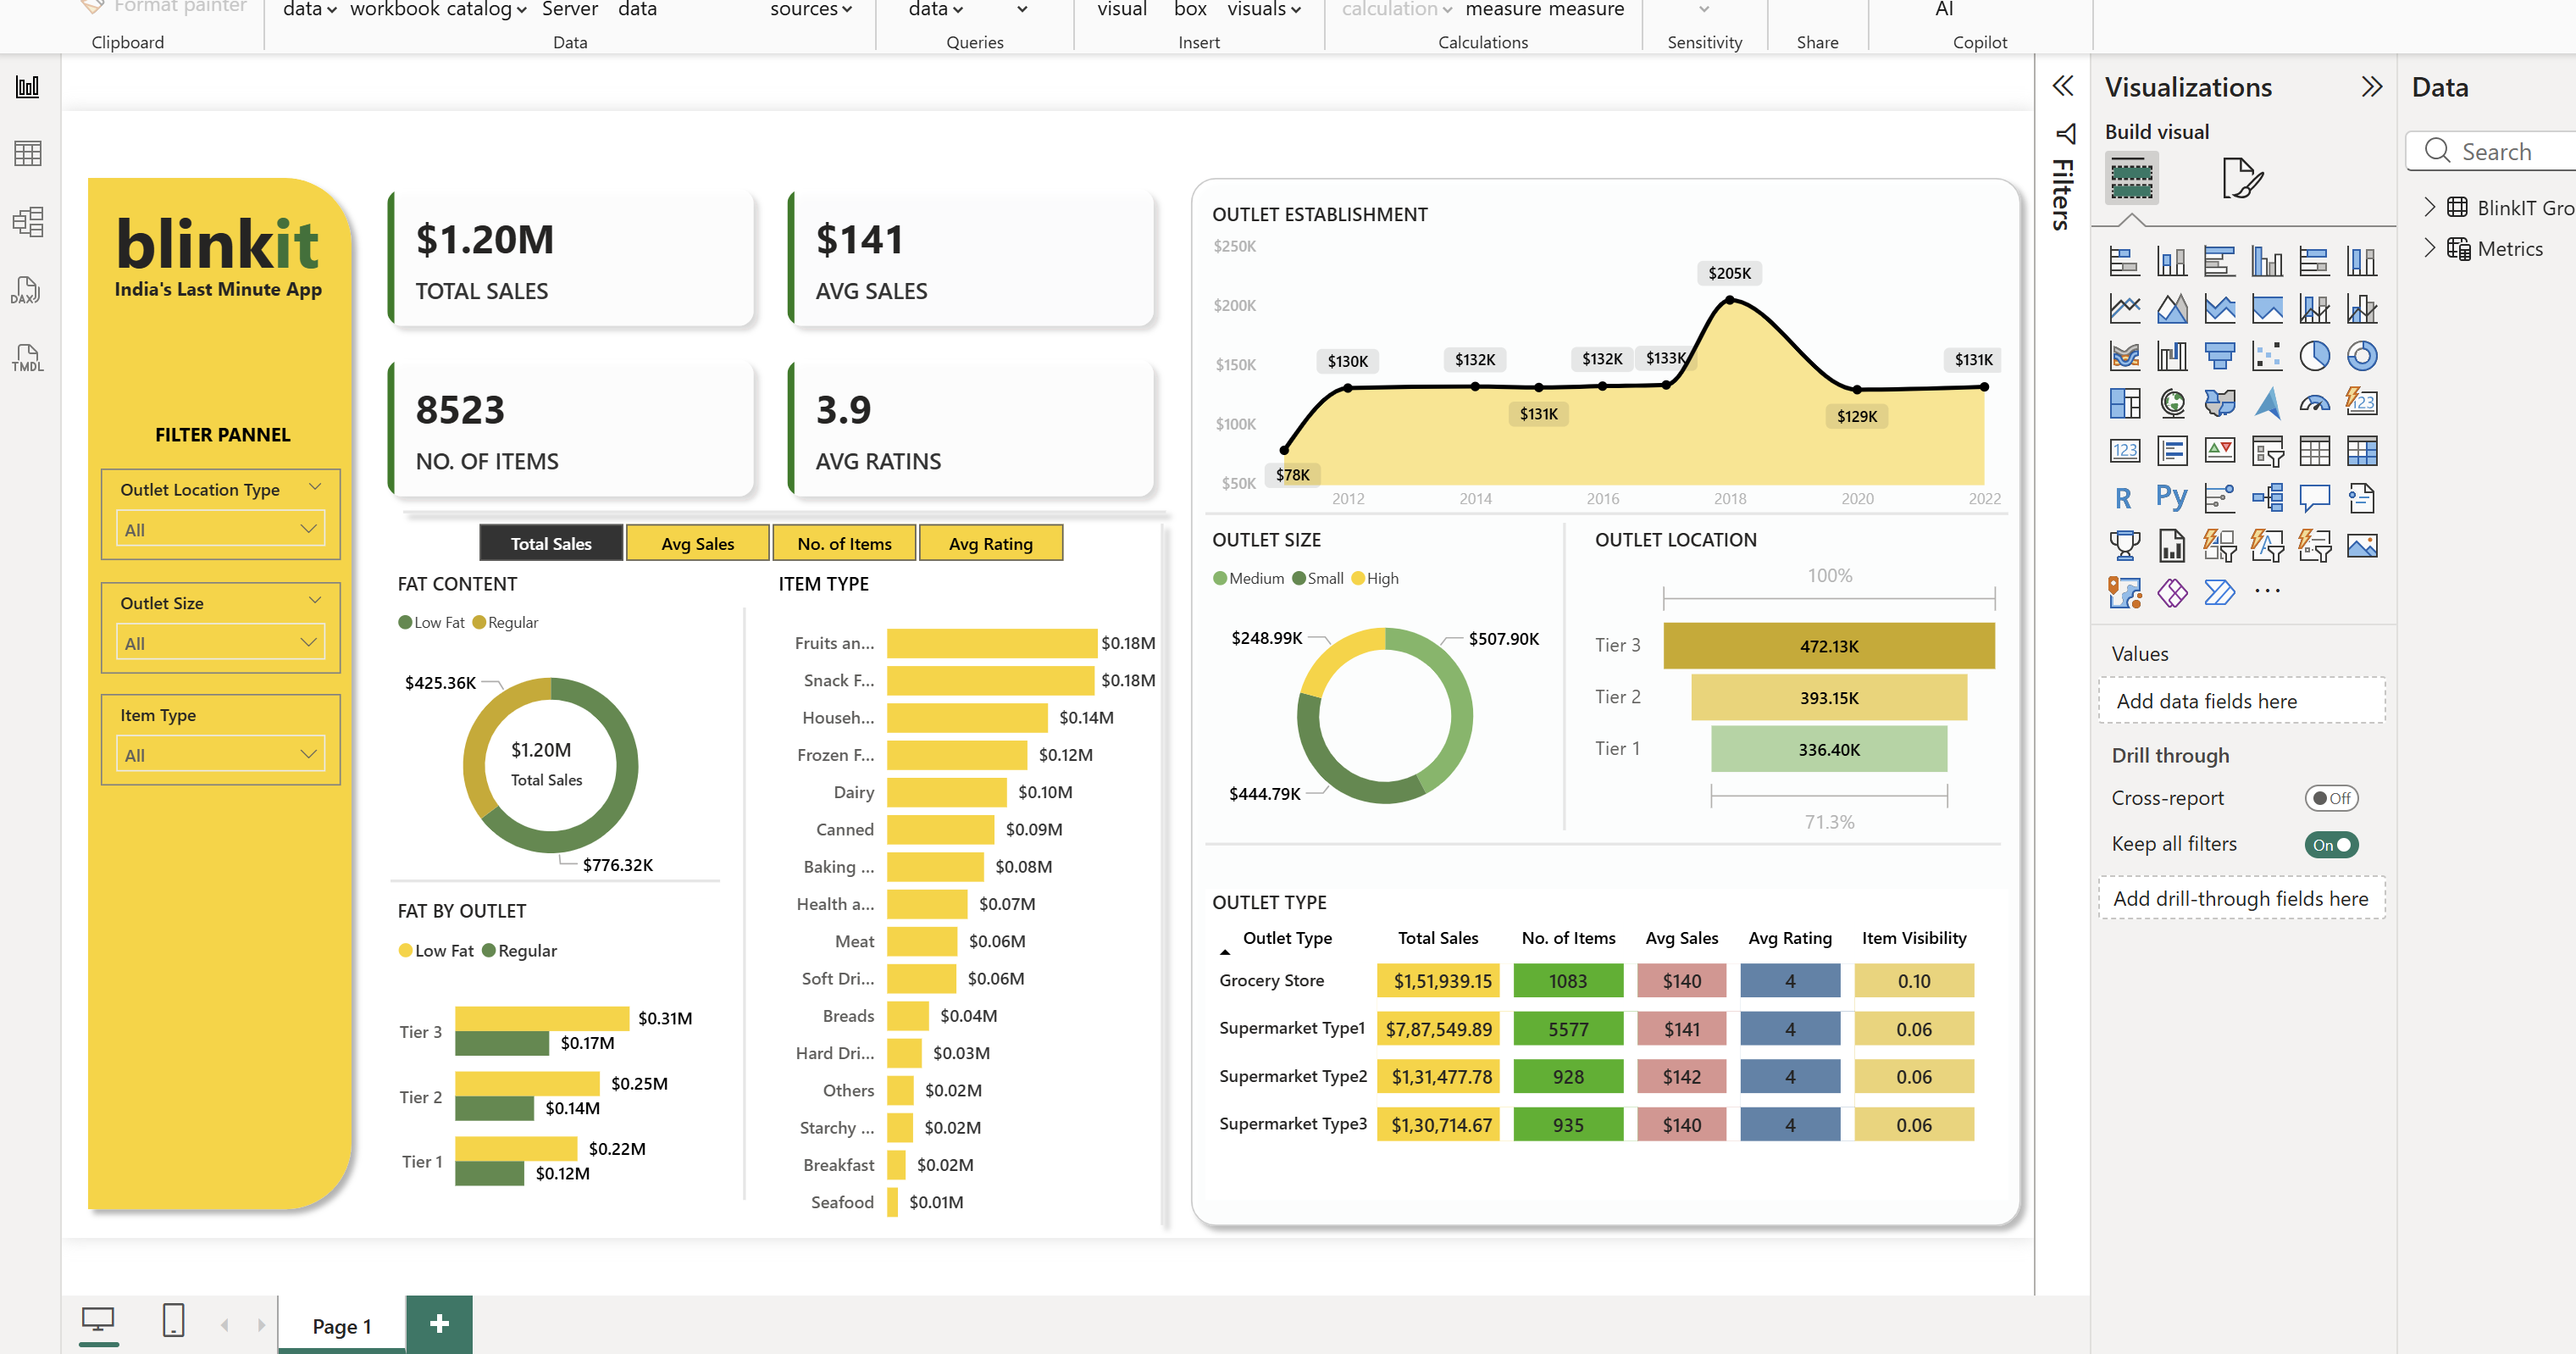

This screenshot's page, from the dashboard's own definition file:
{"tool":"powerbi","page":{"name":"Page 1","canvas":[1400,800],"ordinal":0},"visuals":[{"type":"shape","box":[9.3,38.4,205,750],"z":0},{"type":"textbox","box":[33.1,112.4,168,35.7],"z":1000},{"type":"cardVisual","fields":{"Data":["BlinkIT Grocery Data.Total Sales","BlinkIT Grocery Data.Avg Sales","BlinkIT Grocery Data.No. of Items","BlinkIT Grocery Data.Avg Rating"]},"box":[214.3,38.4,578,254],"z":2000},{"type":"textbox","box":[33.1,54.2,158.7,152.1],"z":3000},{"type":"donutChart","title":" FAT CONTENT","fields":{"Y":["BlinkIT Grocery Data.Total Sales"],"Category":["BlinkIT Grocery Data.Item Fat Content"]},"box":[232.8,325.4,227.5,232.8],"z":4000},{"type":"slicer","fields":{"Values":["Metrics.Metrics"]},"box":[271.2,285.7,464.3,39.7],"z":5000},{"type":"cardVisual","fields":{"Data":["BlinkIT Grocery Data.Total Sales"]},"box":[301.6,427.3,91.3,71.4],"z":6000},{"type":"clusteredBarChart","title":"FAT BY OUTLET","fields":{"Y":["BlinkIT Grocery Data.Total Sales"],"Category":["BlinkIT Grocery Data.Outlet Location Type"],"Series":["BlinkIT Grocery Data.Item Fat Content"]},"box":[232.8,558.2,219.6,230.2],"z":7000},{"type":"shape","box":[232.8,535.7,234.1,22.5],"z":8000},{"type":"shape","box":[465.6,351.9,38.4,420.6],"z":9000},{"type":"clusteredBarChart","title":"ITEM TYPE","fields":{"Y":["BlinkIT Grocery Data.Total Sales"],"Category":["BlinkIT Grocery Data.Item Type"]},"box":[504,325.4,277.8,474.9],"z":10000},{"type":"shape","box":[792.3,38.4,607.1,761.9],"z":11000},{"type":"lineChart","title":"OUTLET ESTABLISHMENT","fields":{"Y":["BlinkIT Grocery Data.Total Sales"],"Category":["BlinkIT Grocery Data.Outlet Establishment Year"]},"box":[812.2,63.5,570.1,228.8],"z":12000},{"type":"shape","box":[812.2,264.6,570.1,42.3],"z":13000},{"type":"donutChart","title":"OUTLET SIZE","fields":{"Y":["BlinkIT Grocery Data.Total Sales"],"Category":["BlinkIT Grocery Data.Outlet Size"]},"box":[812.2,295,255.3,224.9],"z":14000},{"type":"shape","box":[1047.6,292.3,38.4,218.3],"z":15000},{"type":"funnel","title":"OUTLET LOCATION","fields":{"Y":["Sum(BlinkIT Grocery Data.Sales)"],"Category":["BlinkIT Grocery Data.Outlet Location Type"]},"box":[1083.3,295,298.9,224.9],"z":16000},{"type":"shape","box":[812.2,498.7,564.8,42.3],"z":17000},{"type":"shape","box":[232.8,263.2,559.5,42.3],"z":18000},{"type":"shape","box":[761.9,284.4,39.7,515.9],"z":19000},{"type":"pivotTable","title":"OUTLET TYPE","fields":{"Rows":["BlinkIT Grocery Data.Outlet Type"],"Values":["BlinkIT Grocery Data.Total Sales","BlinkIT Grocery Data.No. of Items","BlinkIT Grocery Data.Avg Sales","BlinkIT Grocery Data.Avg Rating","Avg(BlinkIT Grocery Data.Item Visibility)"]},"box":[812.2,551.6,570.1,220.9],"z":20000},{"type":"slicer","fields":{"Values":["BlinkIT Grocery Data.Outlet Location Type"]},"box":[27.8,254,170.6,64.8],"z":21000},{"type":"slicer","fields":{"Values":["BlinkIT Grocery Data.Outlet Size"]},"box":[27.8,334.7,170.6,64.8],"z":22000},{"type":"slicer","fields":{"Values":["BlinkIT Grocery Data.Item Type"]},"box":[27.8,414,170.6,64.8],"z":23000},{"type":"textbox","box":[60.8,215.6,113.8,48.9],"z":24000}]}

Visuals, with their boxes on the page's 1400x800 design canvas (x1, y1, x2, y2). These are canvas units, not pixel positions in the 2576x1354 screenshot, which may show the page scaled, cropped or inside an application window:
shape: <region>9, 38, 214, 788</region>
textbox: <region>33, 112, 201, 148</region>
cardVisual - BlinkIT Grocery Data.Total Sales x BlinkIT Grocery Data.Avg Sales: <region>214, 38, 792, 292</region>
textbox: <region>33, 54, 192, 206</region>
" FAT CONTENT" donutChart: <region>233, 325, 460, 558</region>
slicer - Metrics.Metrics: <region>271, 286, 736, 325</region>
cardVisual - BlinkIT Grocery Data.Total Sales: <region>302, 427, 393, 499</region>
"FAT BY OUTLET" clusteredBarChart: <region>233, 558, 452, 788</region>
shape: <region>233, 536, 467, 558</region>
shape: <region>466, 352, 504, 772</region>
"ITEM TYPE" clusteredBarChart: <region>504, 325, 782, 800</region>
shape: <region>792, 38, 1399, 800</region>
"OUTLET ESTABLISHMENT" lineChart: <region>812, 64, 1382, 292</region>
shape: <region>812, 265, 1382, 307</region>
"OUTLET SIZE" donutChart: <region>812, 295, 1068, 520</region>
shape: <region>1048, 292, 1086, 511</region>
"OUTLET LOCATION" funnel: <region>1083, 295, 1382, 520</region>
shape: <region>812, 499, 1377, 541</region>
shape: <region>233, 263, 792, 306</region>
shape: <region>762, 284, 802, 800</region>
"OUTLET TYPE" pivotTable: <region>812, 552, 1382, 772</region>
slicer - BlinkIT Grocery Data.Outlet Location Type: <region>28, 254, 198, 319</region>
slicer - BlinkIT Grocery Data.Outlet Size: <region>28, 335, 198, 400</region>
slicer - BlinkIT Grocery Data.Item Type: <region>28, 414, 198, 479</region>
textbox: <region>61, 216, 175, 264</region>
